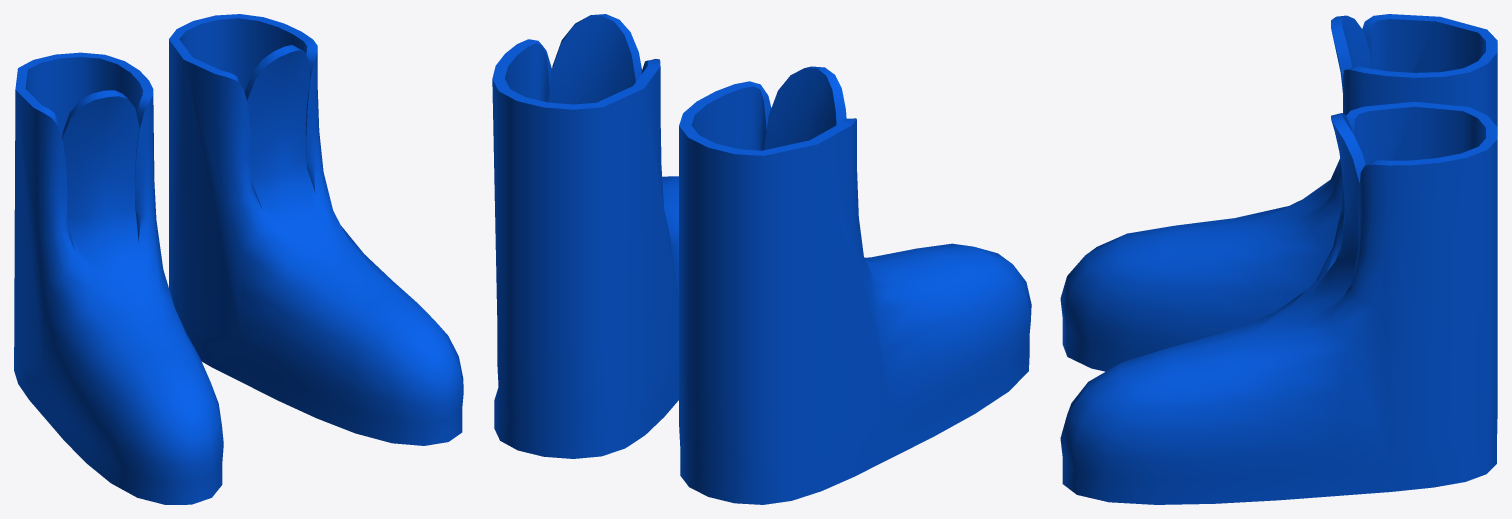
File: HalogramShoes.fbx
The picture shows the model from 3 angles, left to right: view 1: azimuth 30°, elevation 25°; view 2: azimuth 150°, elevation 25°; view 3: azimuth 270°, elevation 25°; orthographic projection. The views are drawn at different scales.
Visible parts, largest first — view 1: Shoe|Cube|Dupli|, Shoe.001|Cube|Dupli|; view 2: Shoe.001|Cube|Dupli|, Shoe|Cube|Dupli|; view 3: Shoe|Cube|Dupli|, Shoe.001|Cube|Dupli|.
Part boxes in pixels (left/top/right/bottom): Shoe|Cube|Dupli|: left=169, top=14, right=463, bottom=445; Shoe.001|Cube|Dupli|: left=14, top=52, right=223, bottom=504; Shoe.001|Cube|Dupli|: left=679, top=66, right=1031, bottom=504; Shoe|Cube|Dupli|: left=492, top=14, right=678, bottom=458; Shoe|Cube|Dupli|: left=1060, top=101, right=1497, bottom=504; Shoe.001|Cube|Dupli|: left=1060, top=14, right=1497, bottom=371.
Size of the model in its own units: 557 by 496 by 565.
